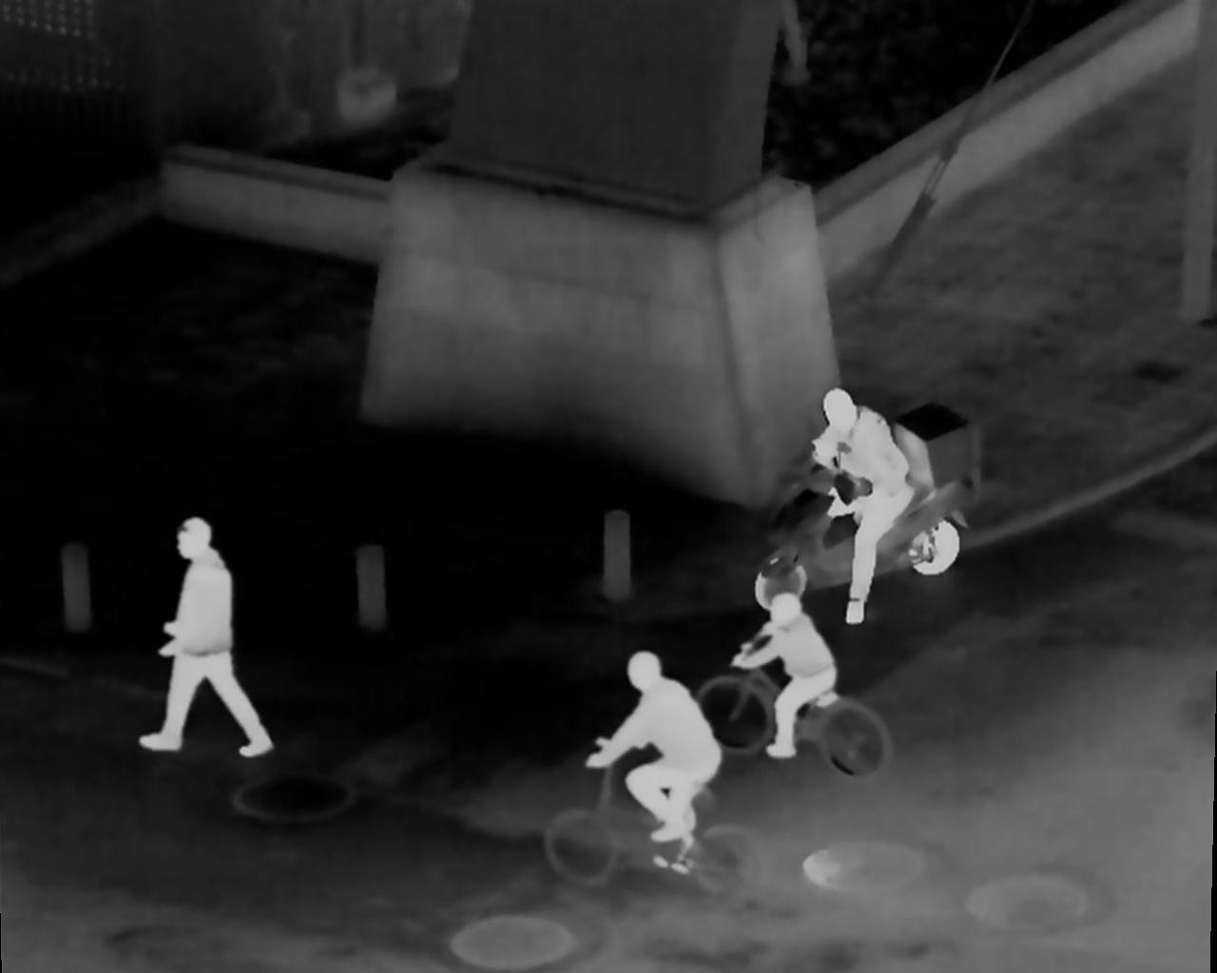person: (145, 519, 269, 754), (591, 658, 716, 889), (810, 388, 903, 636), (743, 598, 835, 759)
